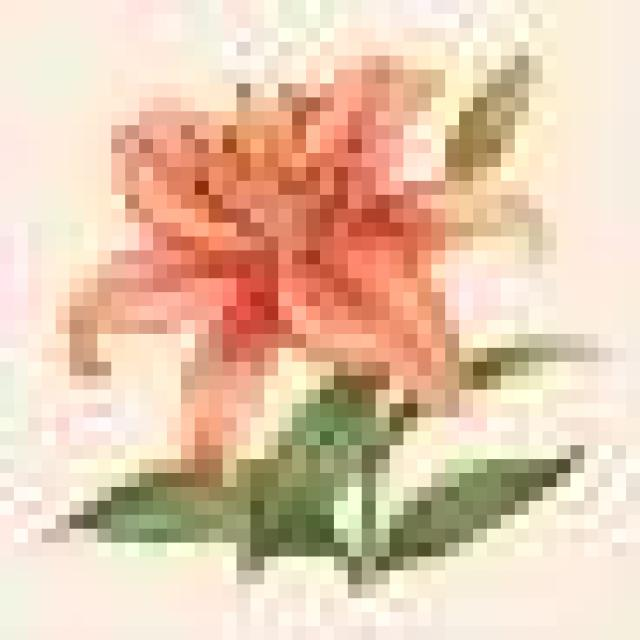lily: (34, 21, 564, 467)
